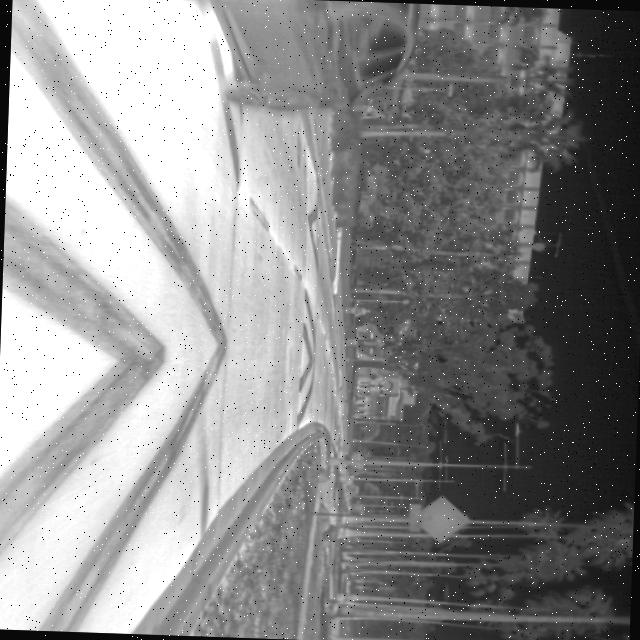Pedestrian: (341, 304, 372, 316)
Vehicle: (153, 0, 422, 120)
